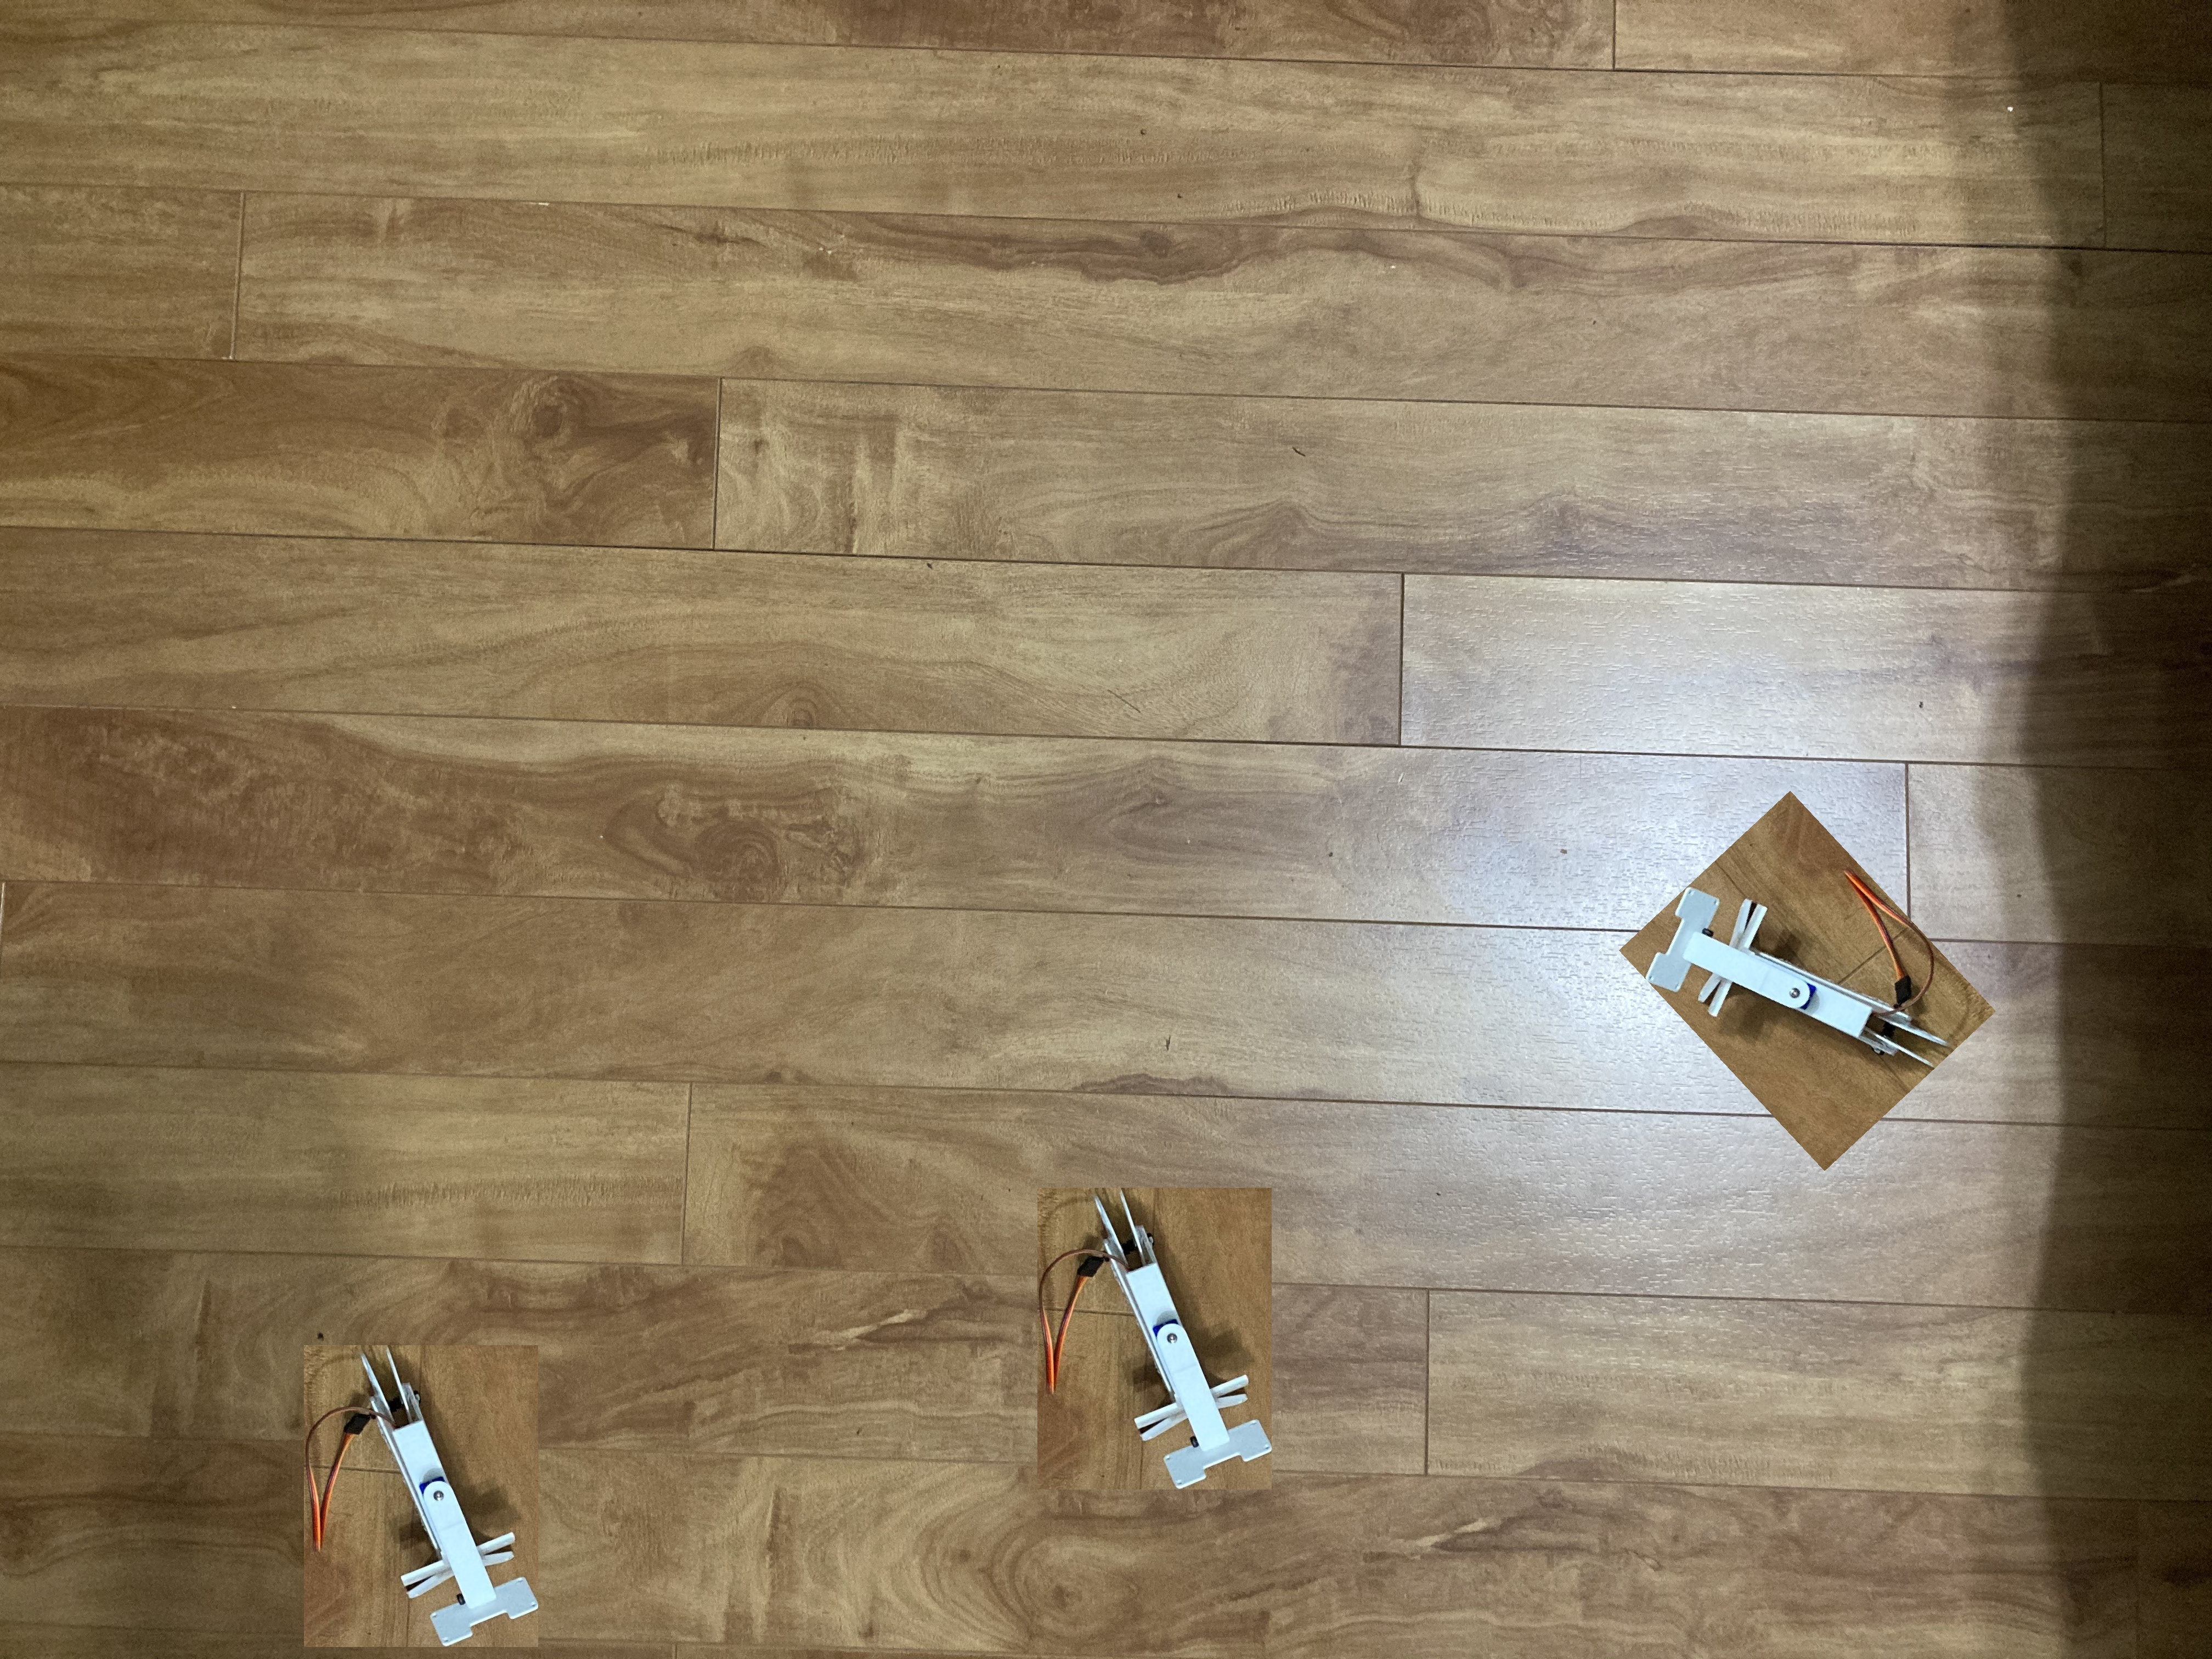robot: (1632, 824, 1980, 1117), (305, 1344, 571, 1643), (1043, 1194, 1292, 1493)
